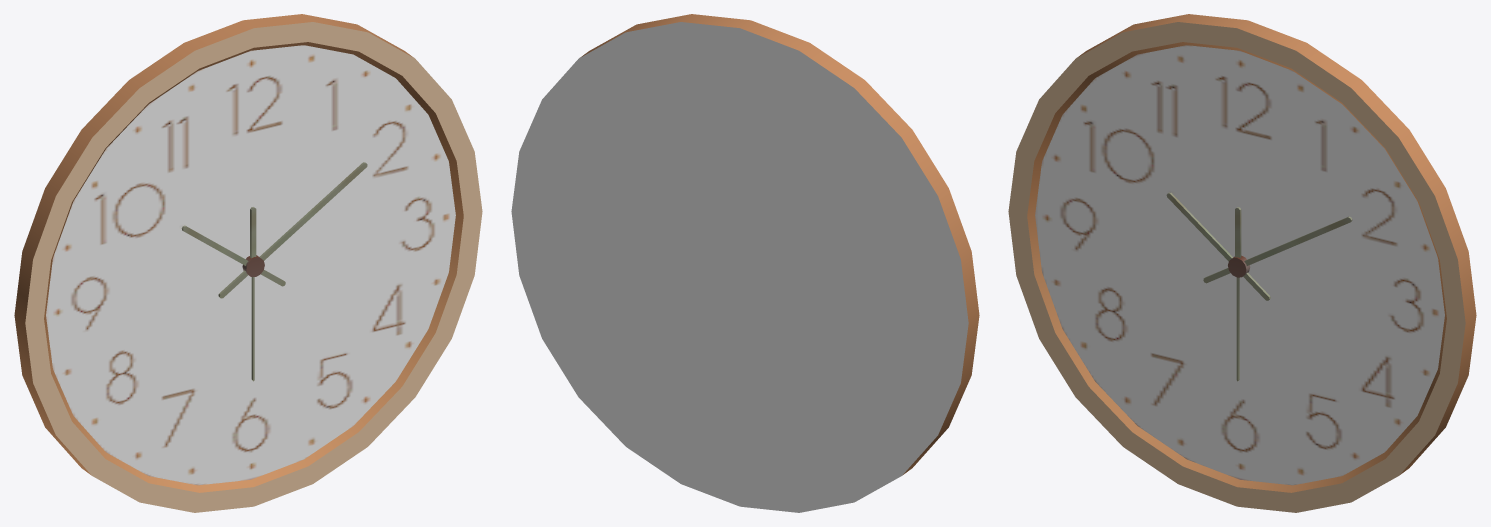
File: Doll_OB_Clock_001.FBX
3 renders of one model, left to right at view 1: azimuth 30°, elevation 25°; view 2: azimuth 150°, elevation 25°; view 3: azimuth 330°, elevation 25°, orthographic.
Parts seen in each view (by area): view 1: Doll_OB_Clock_001; view 2: Doll_OB_Clock_001; view 3: Doll_OB_Clock_001.
Part boxes in pixels (left/top/right/bottom): Doll_OB_Clock_001: left=14, top=14, right=482, bottom=512; Doll_OB_Clock_001: left=511, top=14, right=979, bottom=512; Doll_OB_Clock_001: left=1008, top=14, right=1476, bottom=512.
Bounding box in the file's own units: 47.55 × 47.55 × 2.1.
